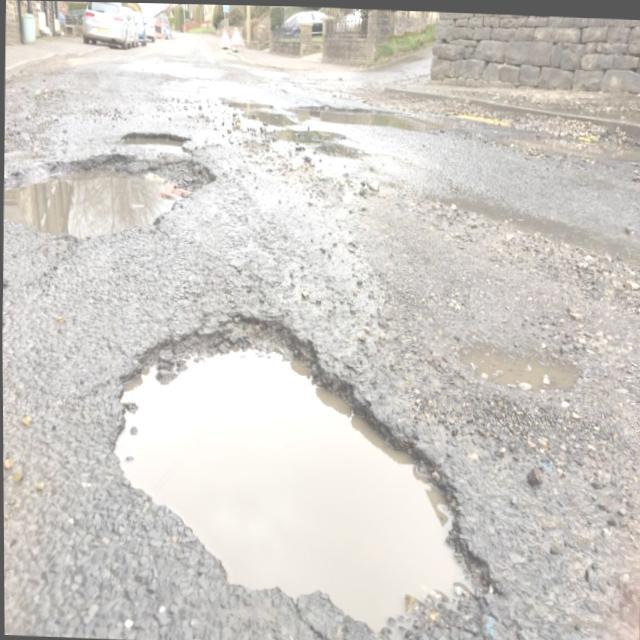Pothole: (114, 314, 491, 632), (3, 128, 212, 233), (289, 102, 446, 139)
